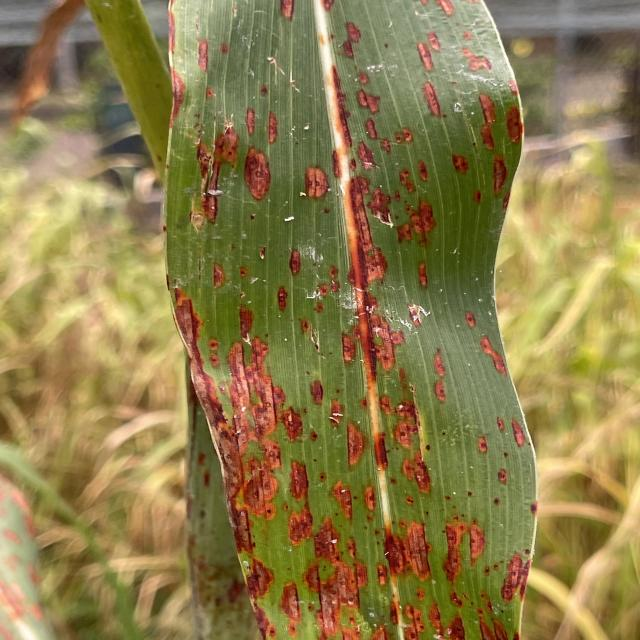millet_rust: (155, 0, 556, 640)
